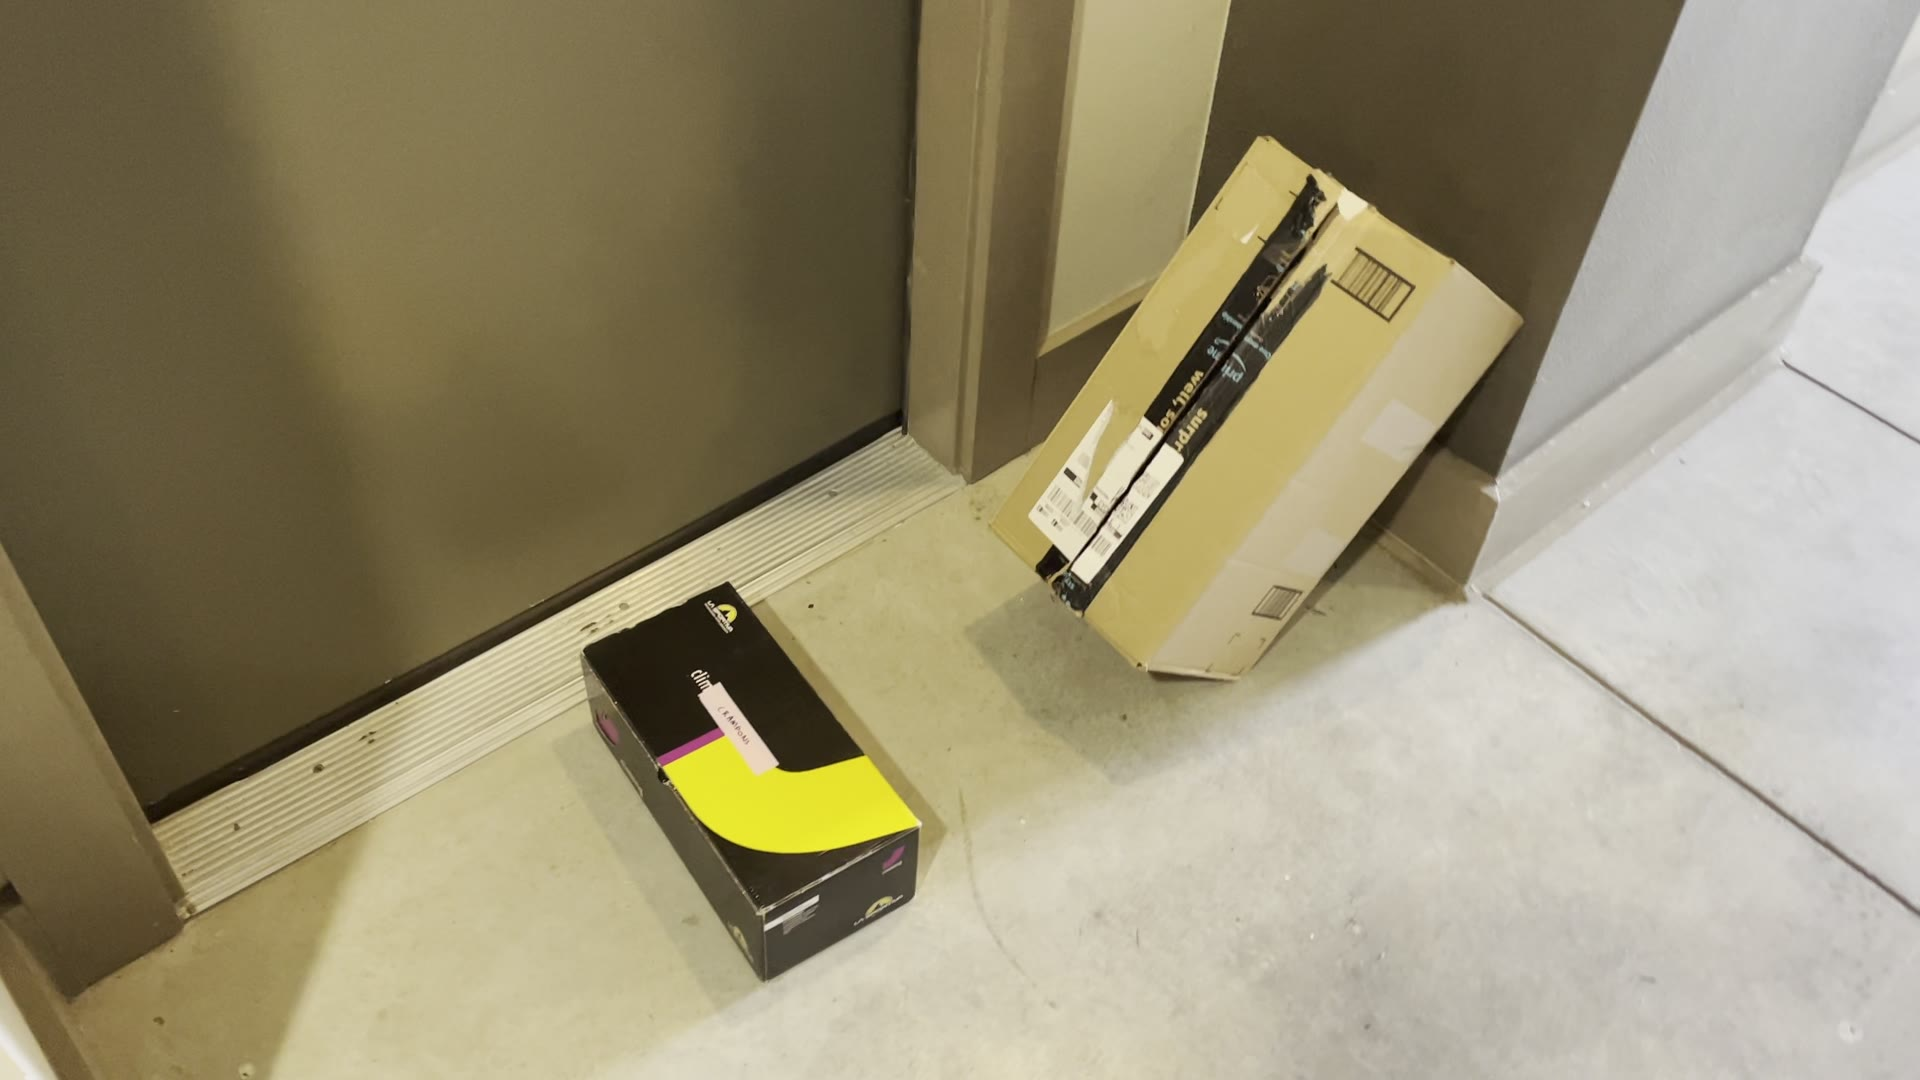box: (1048, 87, 1509, 715), (534, 592, 965, 975)
